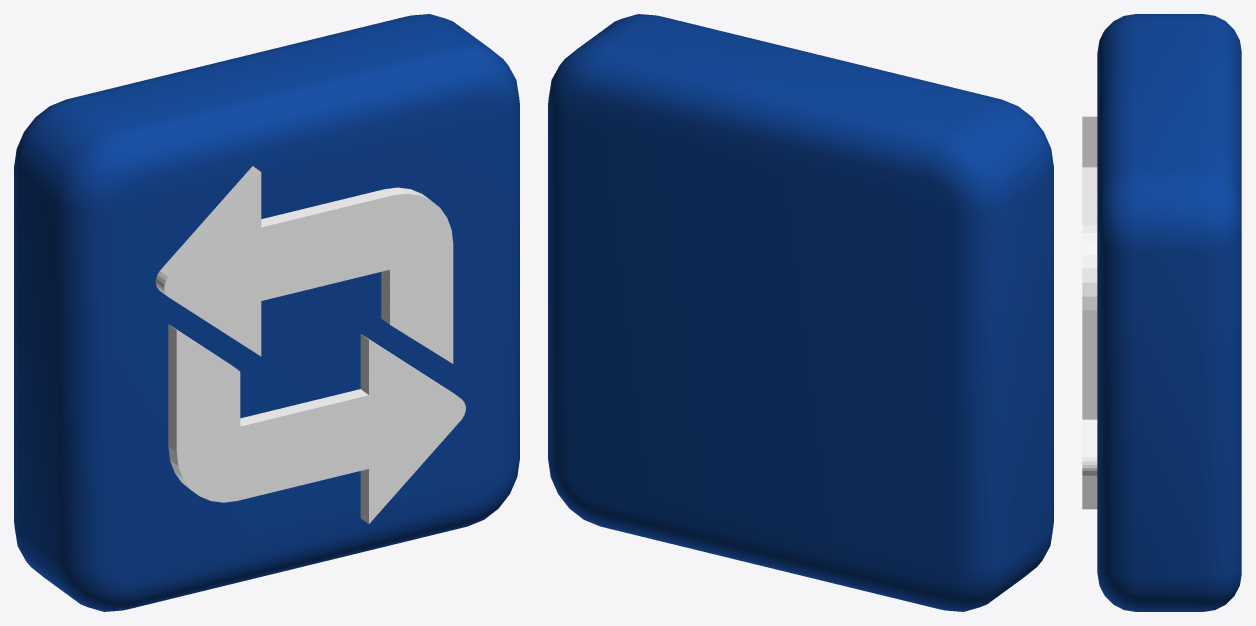
The model's file is counterclockwise_arrows_button.glb.
3 views of the same model, side by side, from view 1: azimuth 30°, elevation 25°; view 2: azimuth 150°, elevation 25°; view 3: azimuth 270°, elevation 25° (orthographic). The views are drawn at different scales.
Parts seen in each view (by area): view 1: Cube.6343; view 2: Cube.6343; view 3: Cube.6343.
Boxes of the visible parts, <box> form: Cube.6343: <box>14,14,519,611</box>; Cube.6343: <box>548,14,1053,611</box>; Cube.6343: <box>1082,14,1241,611</box>.
Bounding box in the file's own units: 2.2 × 2.2 × 0.73.
1 material, 1 textured.
